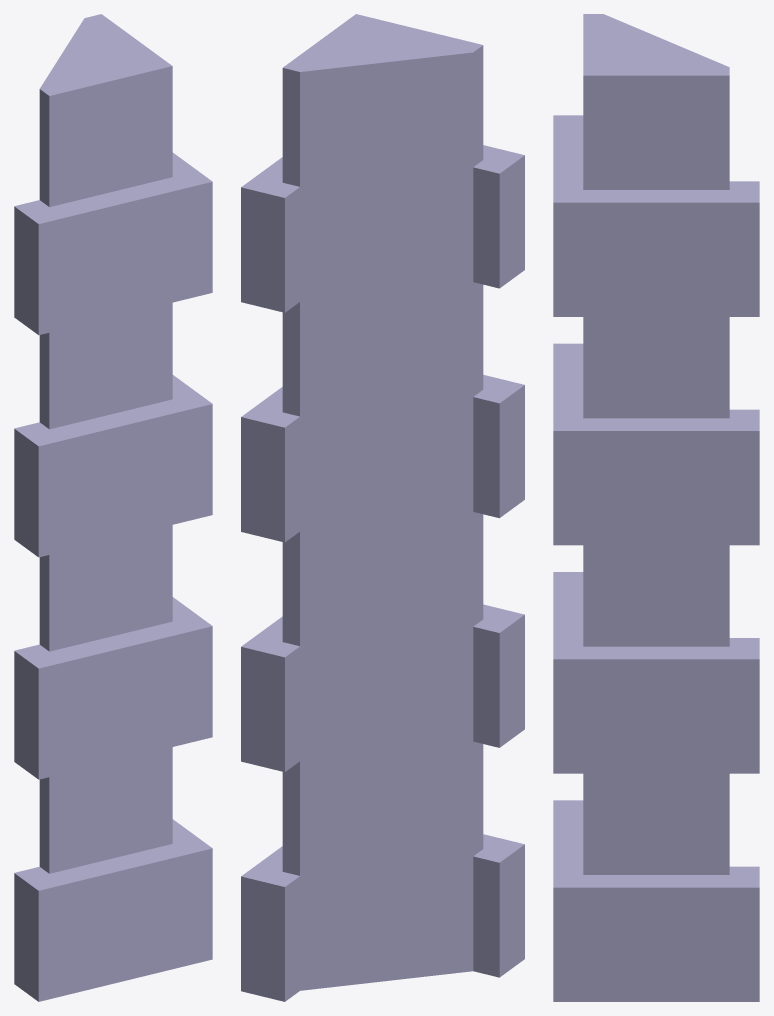
File: quoin_detailed.fbx
The picture shows the model from 3 angles, left to right: view 1: azimuth 30°, elevation 25°; view 2: azimuth 150°, elevation 25°; view 3: azimuth 270°, elevation 25°; orthographic projection. The views are drawn at different scales.
Parts seen in each view (by area): view 1: quoin_detailed; view 2: quoin_detailed; view 3: quoin_detailed.
Part boxes in pixels (bbox=[...]): quoin_detailed: bbox=[14, 14, 212, 1001]; quoin_detailed: bbox=[241, 14, 524, 1001]; quoin_detailed: bbox=[553, 14, 759, 1001].
Size of the model in its own units: 2.05 by 10 by 2.05.
